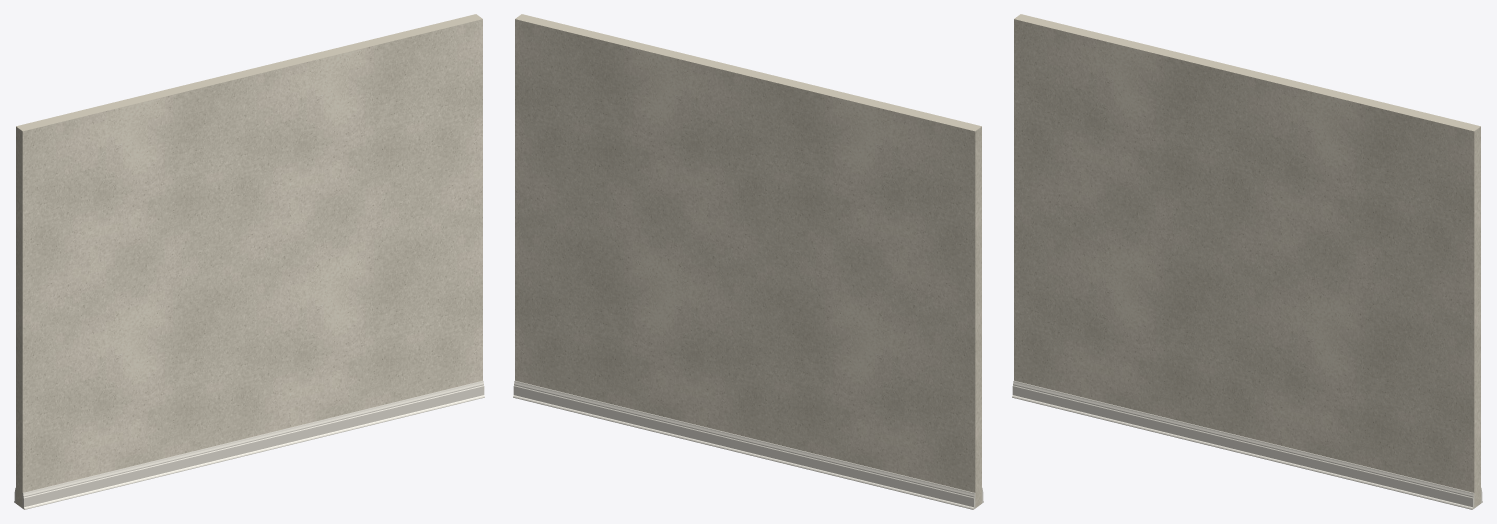
Rendered from pw_div.glb.
3 renders of one model, left to right at view 1: azimuth 30°, elevation 25°; view 2: azimuth 150°, elevation 25°; view 3: azimuth 330°, elevation 25°, orthographic.
Parts seen in each view (by area): view 1: pw_div_plaster, molduras; view 2: pw_div_plaster, molduras; view 3: pw_div_plaster, molduras.
Boxes of the visible parts, box(x1,y1,x2,y2) form: pw_div_plaster: box(16, 14, 482, 508); molduras: box(14, 380, 484, 509); pw_div_plaster: box(515, 14, 981, 508); molduras: box(513, 380, 983, 509); pw_div_plaster: box(1014, 14, 1480, 508); molduras: box(1012, 380, 1482, 509).
Size of the model in its own units: 4.59 by 3.6 by 0.18.
Materials: 2 (1 with a texture image).
